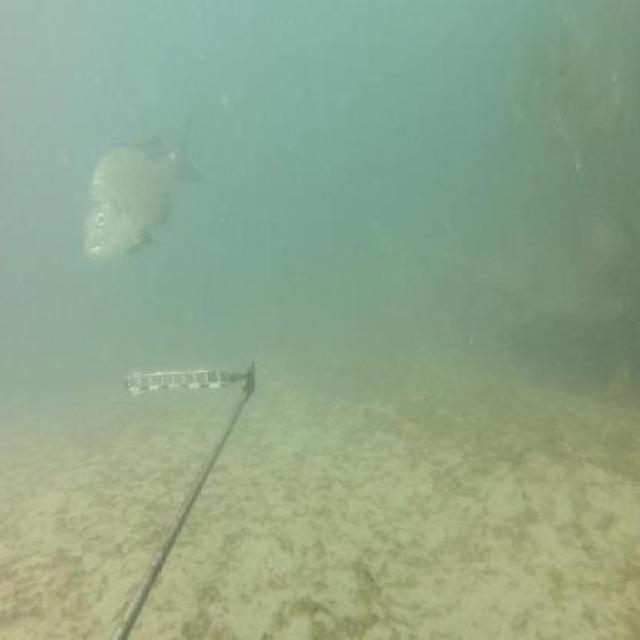acanthopagrus_palmaris: (82, 105, 204, 264)
